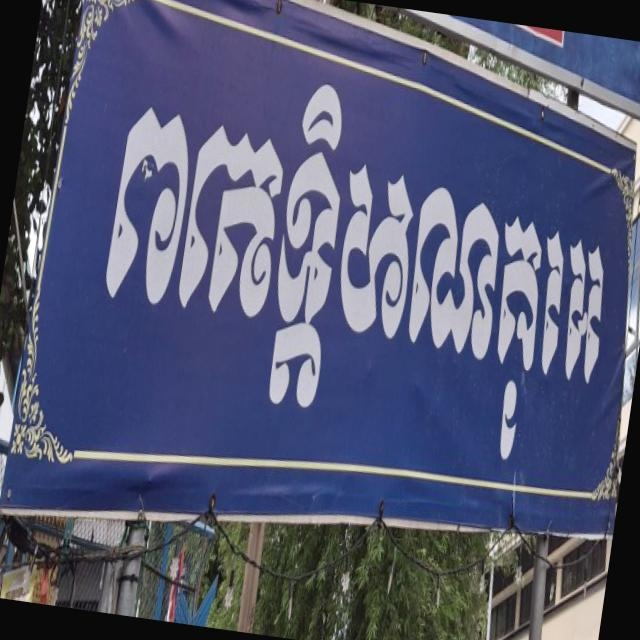Yolov11_80vkh: (62, 4, 619, 498)
